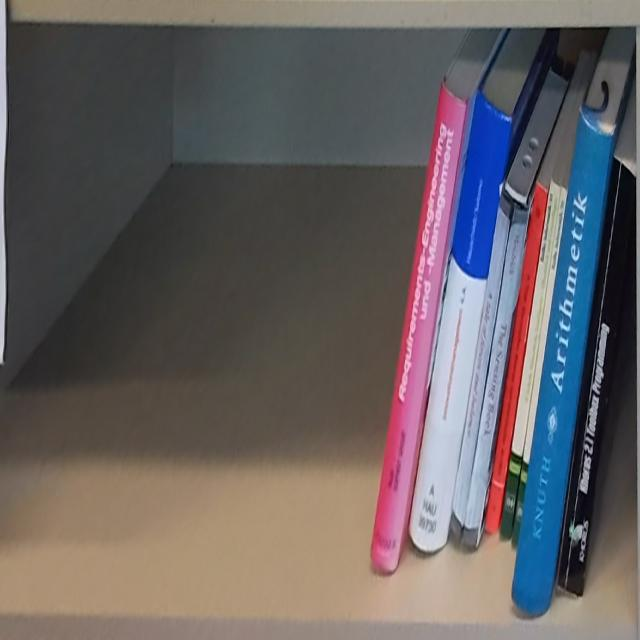Book Spine: (512, 101, 613, 615), (407, 88, 512, 555), (370, 80, 468, 579), (556, 152, 637, 603), (460, 207, 532, 551), (485, 183, 548, 538), (502, 175, 562, 541), (450, 192, 512, 546), (512, 182, 568, 553)
